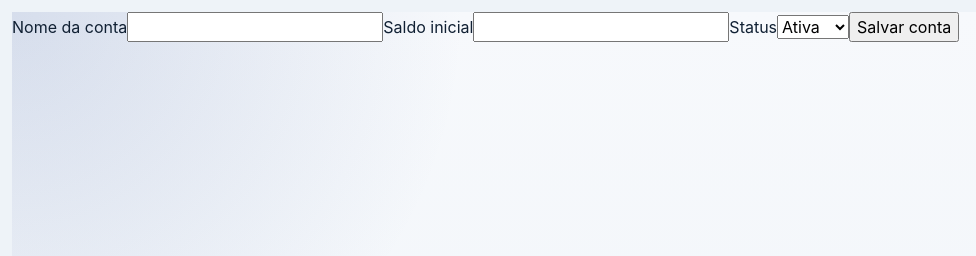
Test: accounts and cards forms validation › bloqueia envio invalido do AccountForm e exibe mensagens por campo
What coordinates should you click on to do the following:
click the button "Salvar conta"
I would click on:
 (904, 27)
Its box is [849,12,959,42].
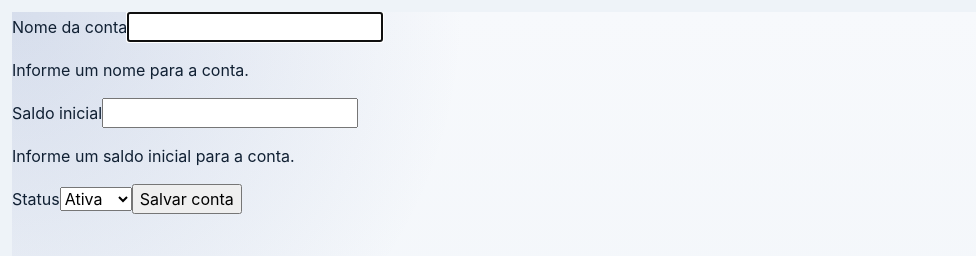
Expected: the text "Informe um nome para a conta." is shown, [12,60,249,80]
Expected: the text "Informe um saldo inicial para a conta." is shown, [12,146,295,166]
